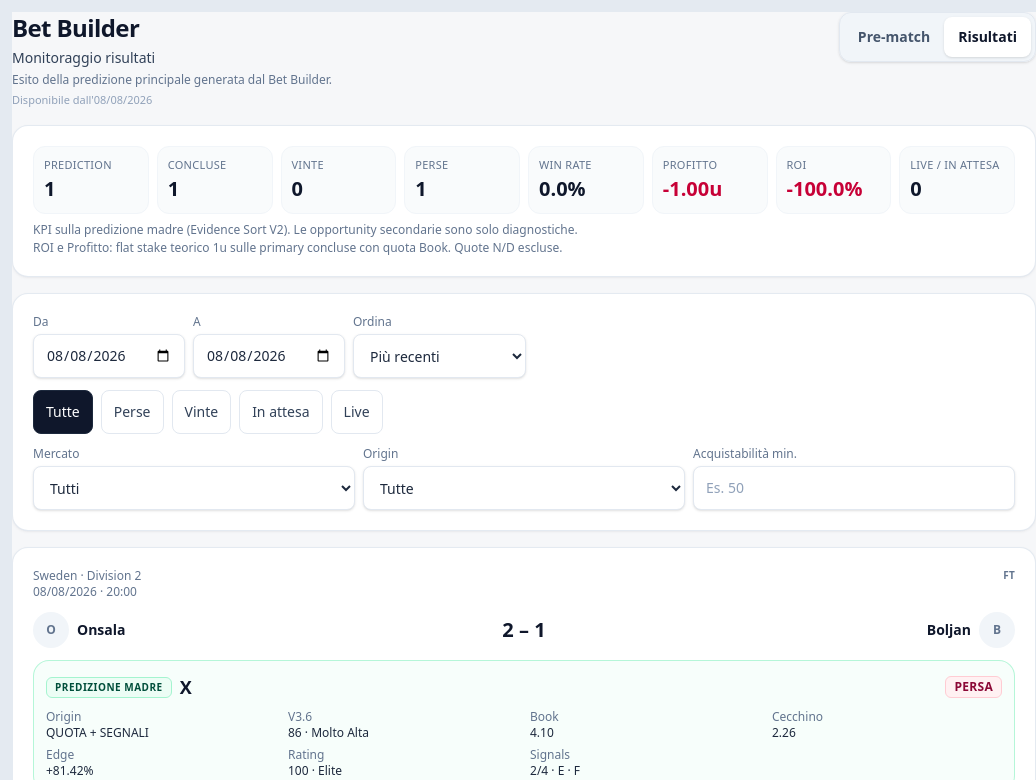
Test: BetBuilderPage Results BET-RESULTS-01 › BET-RESULTS-01.1 In attesa auto-sort kickoff_asc
Expected: the dropdown with test id "results-sort" shows "Più recenti", [353, 334, 526, 378]
Click the button with test id "results-outcome-pending": click(281, 412) [239, 390, 323, 434]
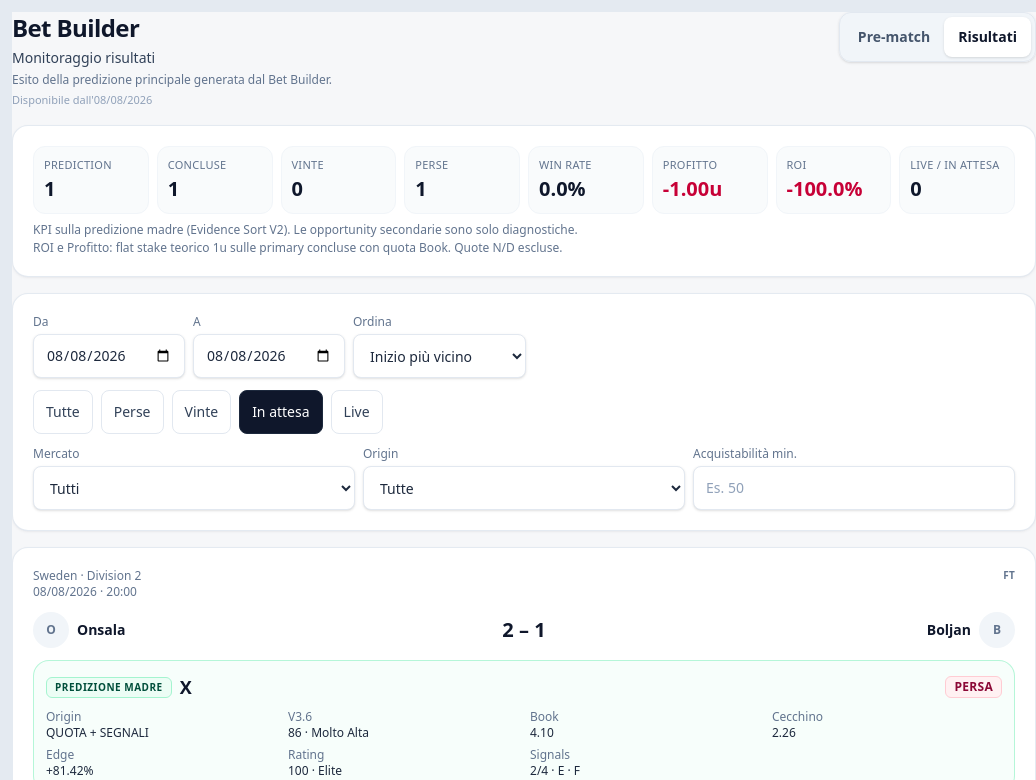
Expected: the dropdown with test id "results-sort" shows "Inizio più vicino", [353, 334, 526, 378]
